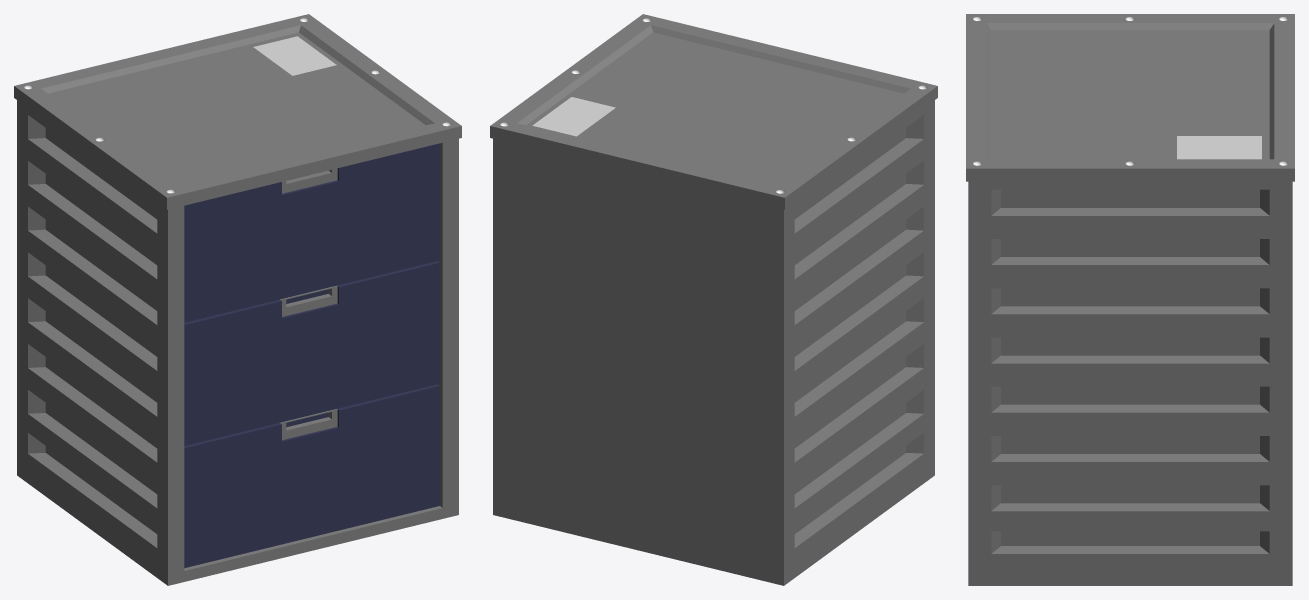
The model's file is plastic_cabinet 1.glb.
The picture shows the model from 3 angles, left to right: view 1: azimuth 30°, elevation 25°; view 2: azimuth 150°, elevation 25°; view 3: azimuth 270°, elevation 25°; orthographic projection. The views are drawn at different scales.
Visible parts, largest first — view 1: Cabinet BlueGrey_3, BlueGrey Door 1.001_1, BlueGrey Door 1.002_2, BlueGrey Door 1_0; view 2: Cabinet BlueGrey_3; view 3: Cabinet BlueGrey_3.
Part boxes in pixels (<box>): Cabinet BlueGrey_3: <box>14,14,461,585</box>; BlueGrey Door 1.001_1: <box>184,261,439,445</box>; BlueGrey Door 1.002_2: <box>184,384,439,568</box>; BlueGrey Door 1_0: <box>184,143,439,322</box>; Cabinet BlueGrey_3: <box>490,14,937,585</box>; Cabinet BlueGrey_3: <box>966,14,1294,585</box>.
Size of the model in its own units: 0.5789 by 0.7307 by 0.5202.
